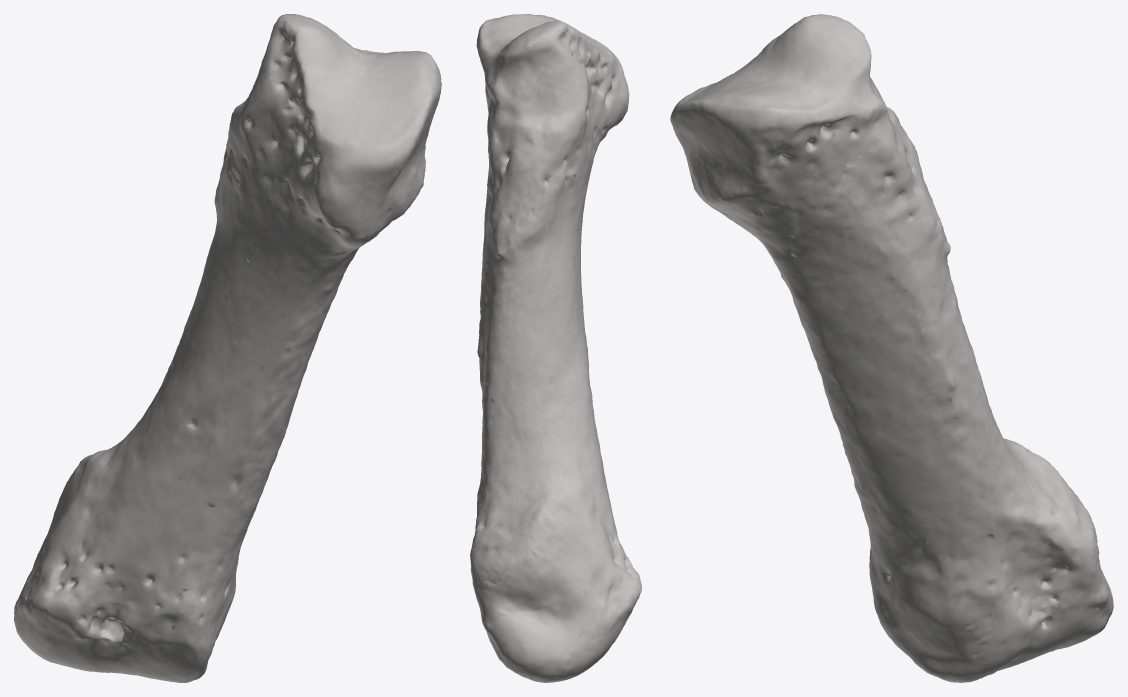
3 renders of one model, left to right at view 1: azimuth 30°, elevation 25°; view 2: azimuth 150°, elevation 25°; view 3: azimuth 270°, elevation 25°, orthographic. The views are drawn at different scales.
Visible parts, largest first — view 1: Mc1_Hund.001; view 2: Mc1_Hund.001; view 3: Mc1_Hund.001.
Boxes of the visible parts, bbox=[...] form: Mc1_Hund.001: bbox=[14, 14, 441, 682]; Mc1_Hund.001: bbox=[470, 14, 641, 682]; Mc1_Hund.001: bbox=[670, 14, 1113, 682].
Size of the model in its own units: 1014 by 2261 by 1329.
Materials: 1 (1 with a texture image).
